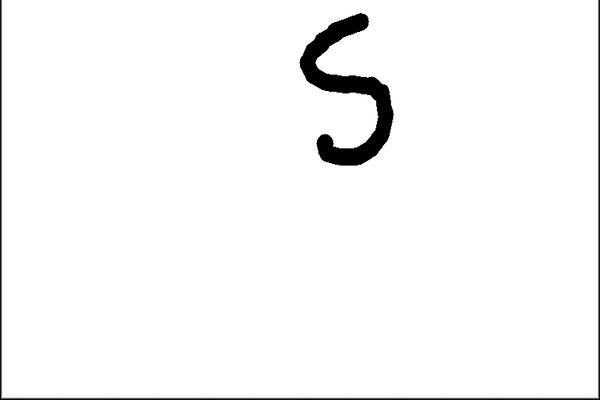S: (286, 5, 410, 174)
